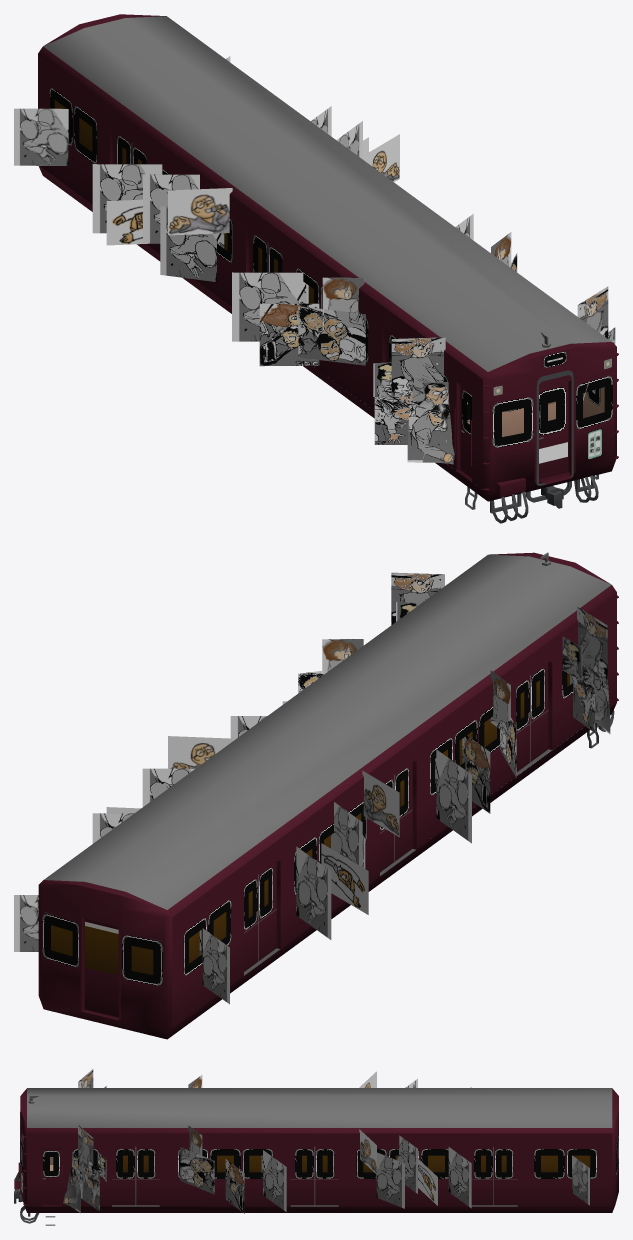
File: CHAR_SEL_2300.glb
3 views of the same model, one above another, from view 1: azimuth 30°, elevation 25°; view 2: azimuth 150°, elevation 25°; view 3: azimuth 270°, elevation 25° (orthographic). The views are drawn at different scales.
Visible parts, largest first — view 1: obj1; view 2: obj1; view 3: obj1.
Part boxes in pixels (x1,y1,x2,y2): obj1: [14, 14, 618, 523]; obj1: [14, 552, 618, 1039]; obj1: [14, 1069, 618, 1225].
Size of the model in its own units: 12.79 by 8.08 by 38.87.
Materials: 24 (23 with a texture image).
